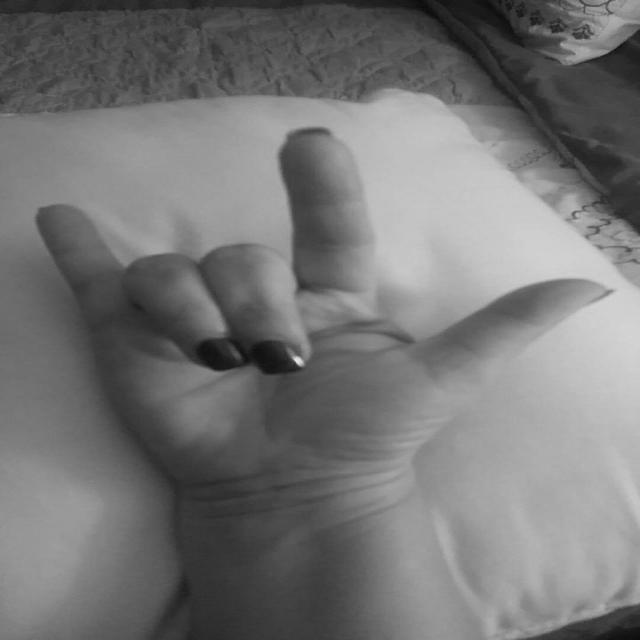i love you: (24, 120, 625, 537)
